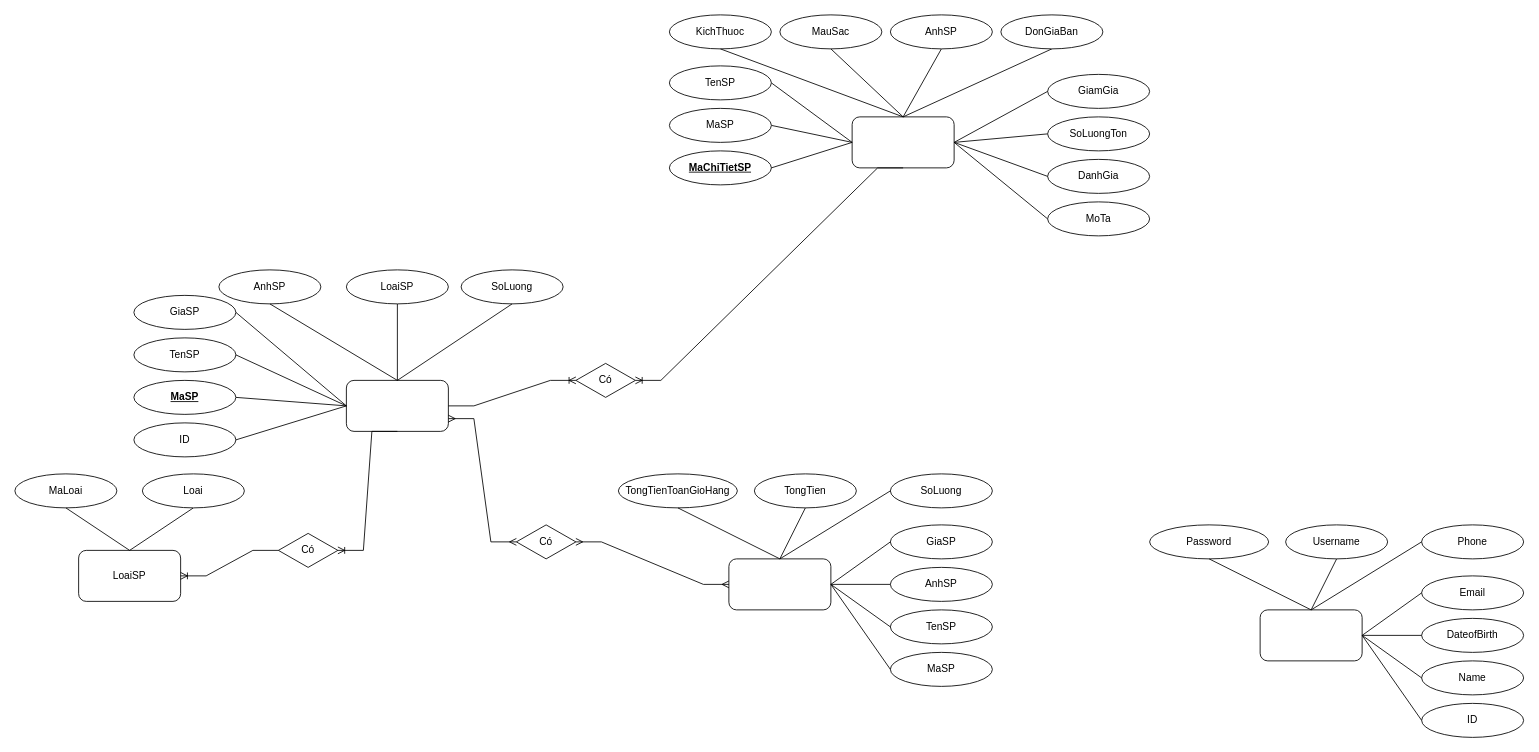
The diagram is 1539 pixels wide and 752 high, and some of its shapes have lost their labels. The box of each missing label's shape, as (x1, y1, x2, y2) in pixels:
ChiTietSP: (851, 116, 954, 168)
GioHang: (728, 558, 831, 610)
Products: (346, 380, 448, 431)
User: (1259, 609, 1362, 661)
